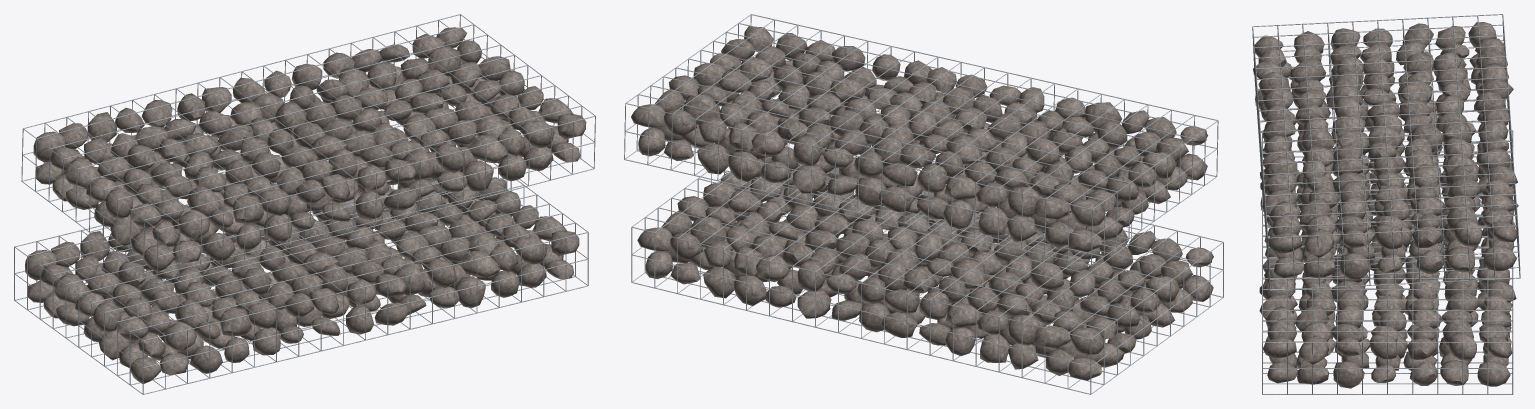
File: FUN-GAB-002_anim.glb
3 views of the same model, side by side, from view 1: azimuth 30°, elevation 25°; view 2: azimuth 150°, elevation 25°; view 3: azimuth 270°, elevation 25° (orthographic). The views are drawn at different scales.
Parts seen in each view (by area): view 1: FUN-GAB-002_anim1, FUN-GAB-002_anim0; view 2: FUN-GAB-002_anim1, FUN-GAB-002_anim0; view 3: FUN-GAB-002_anim1, FUN-GAB-002_anim0.
Boxes of the visible parts, x1,y1,x2,y2 form: FUN-GAB-002_anim1: (21, 14, 595, 283); FUN-GAB-002_anim0: (14, 159, 588, 394); FUN-GAB-002_anim1: (624, 14, 1218, 266); FUN-GAB-002_anim0: (631, 143, 1223, 394); FUN-GAB-002_anim1: (1252, 14, 1520, 290); FUN-GAB-002_anim0: (1259, 130, 1518, 394).
Size of the model in its own units: 2.07 by 0.7575 by 1.07.
Materials: 2 (2 with a texture image).
